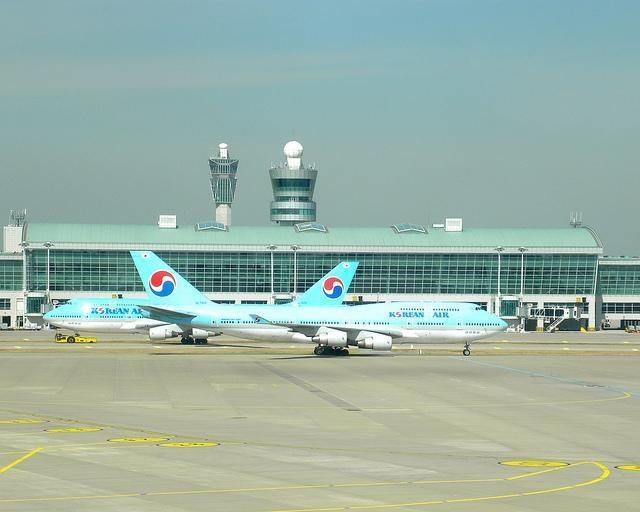car: (53, 331, 97, 343)
